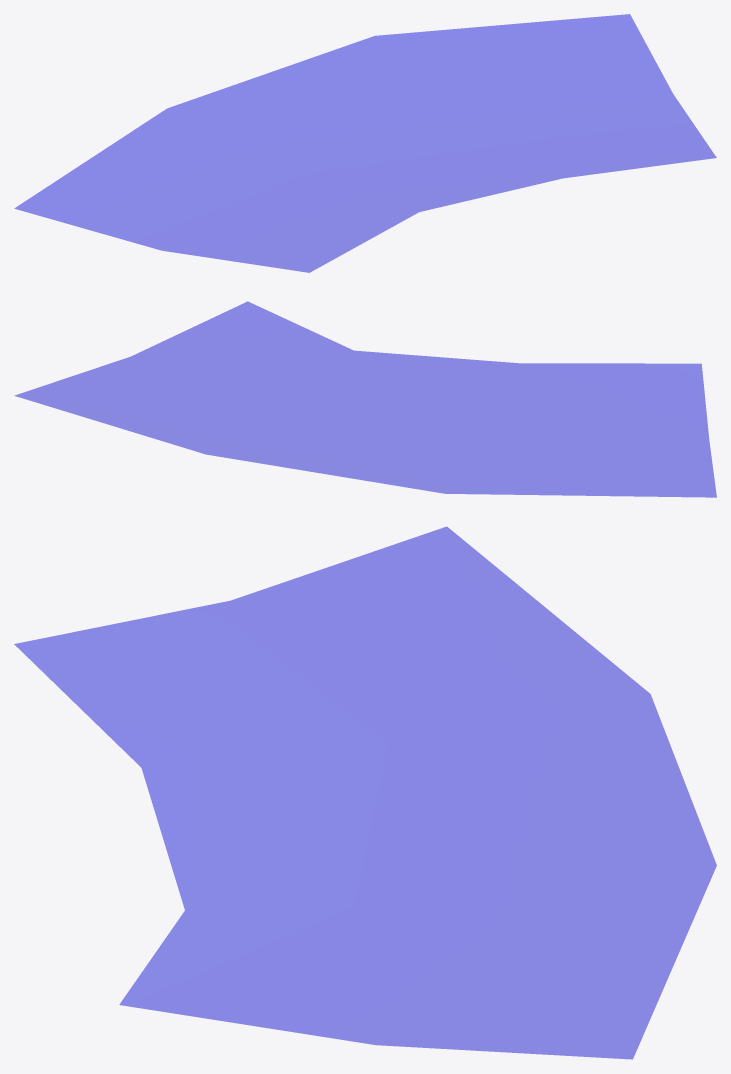
File: track_la_coll_road_17.fbx
3 views of the same model, one above another, from view 1: azimuth 30°, elevation 25°; view 2: azimuth 150°, elevation 25°; view 3: azimuth 270°, elevation 25° (orthographic). The views are drawn at different scales.
Visible parts, largest first — view 1: track_la_coll_road_17; view 2: track_la_coll_road_17; view 3: track_la_coll_road_17.
Boxes of the visible parts, x1,y1,x2,y2 form: track_la_coll_road_17: (14, 14, 716, 272); track_la_coll_road_17: (14, 301, 716, 497); track_la_coll_road_17: (14, 526, 716, 1059).
Size of the model in its own units: 59.31 by 2.04 by 34.49.
